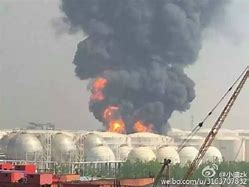smoke: (66, 1, 202, 129)
